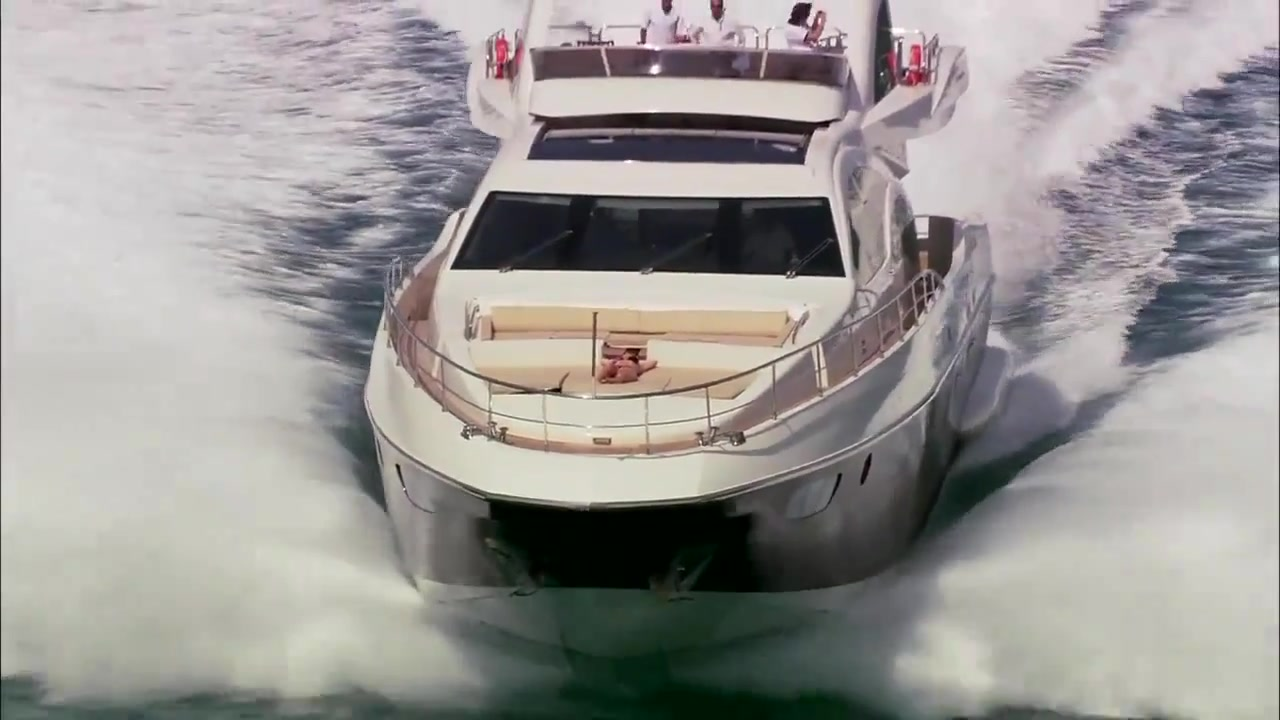boat: (360, 1, 1001, 702)
